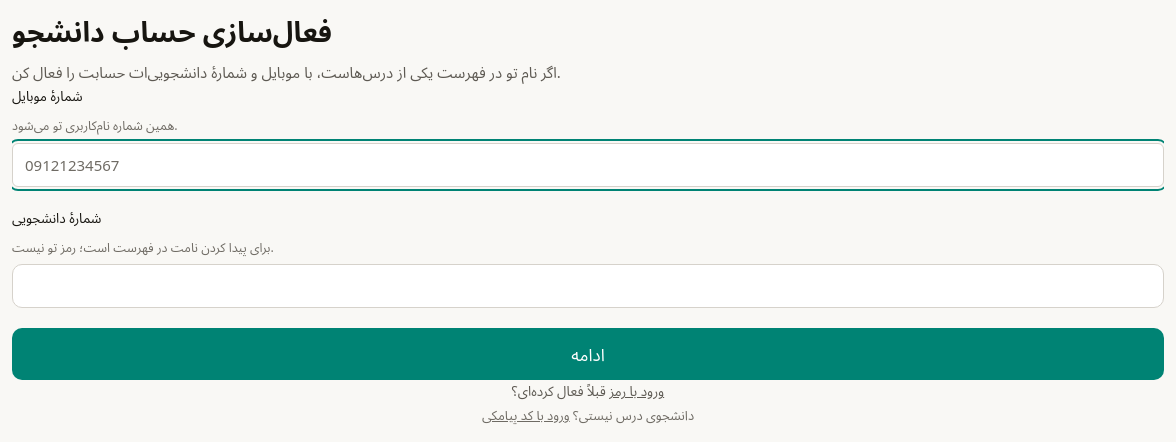
فعال‌سازی حساب دانشجو › ارقام فارسی لاتین می‌شوند و فقط نام پوشیده نشان داده می‌شود
Type "۰۹۱۲۱۲۳۴۵۶۷" into the field labelled "شمارهٔ موبایل" at {"x": 588, "y": 165}, box [12,143,1164,187]
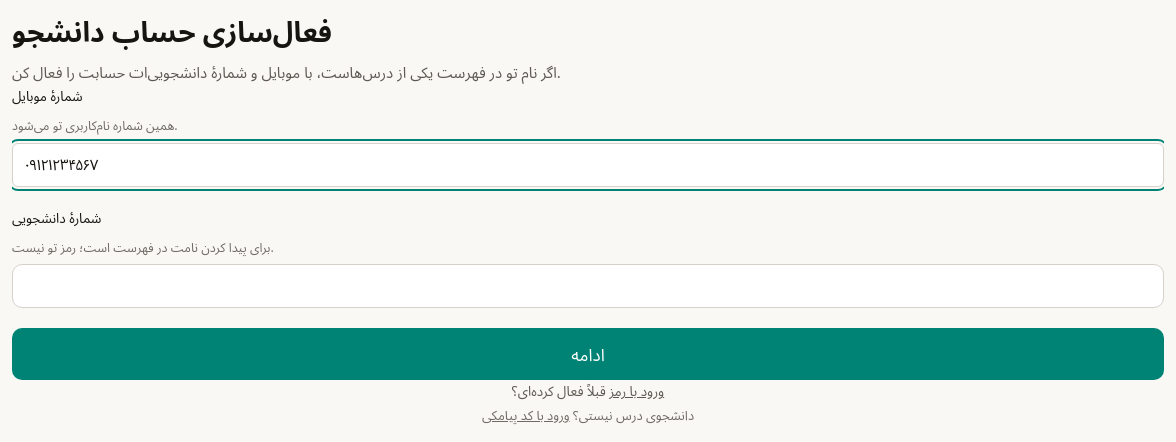
Type "۴۰۲۱۲۳۴۵۶" into the field labelled "شمارهٔ دانشجویی" at {"x": 588, "y": 286}, box [12,264,1164,308]
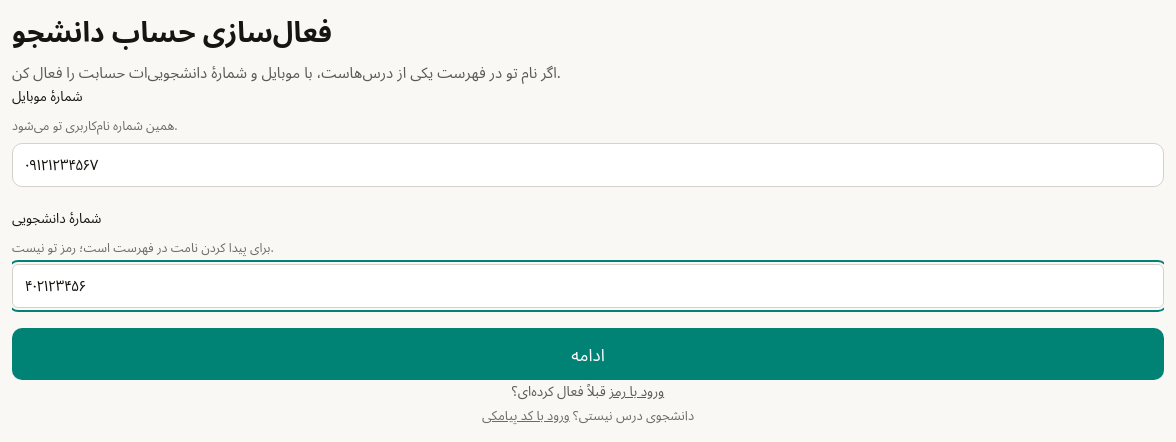
Click the button "ادامه" at {"x": 588, "y": 354}, box [12,328,1164,380]
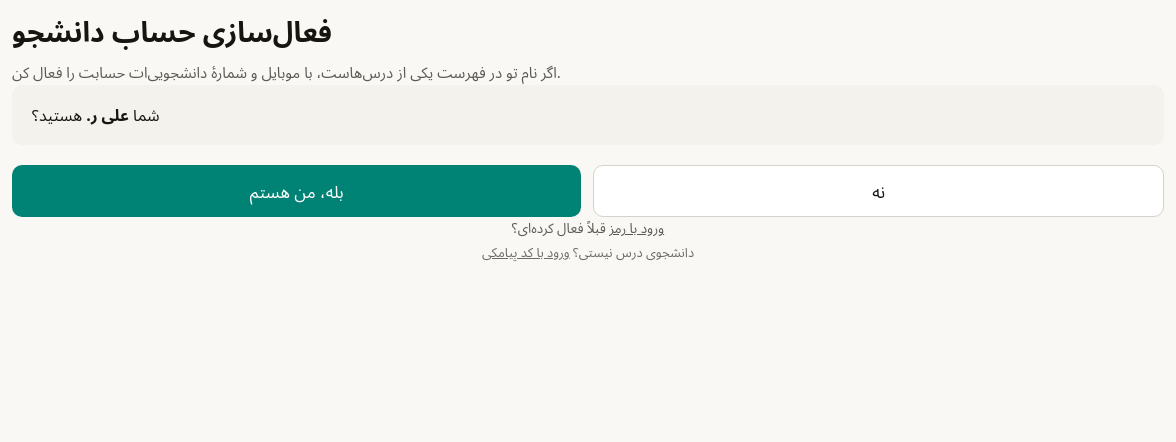
Now the text "علی ر." is shown, box [86,104,129,126]
